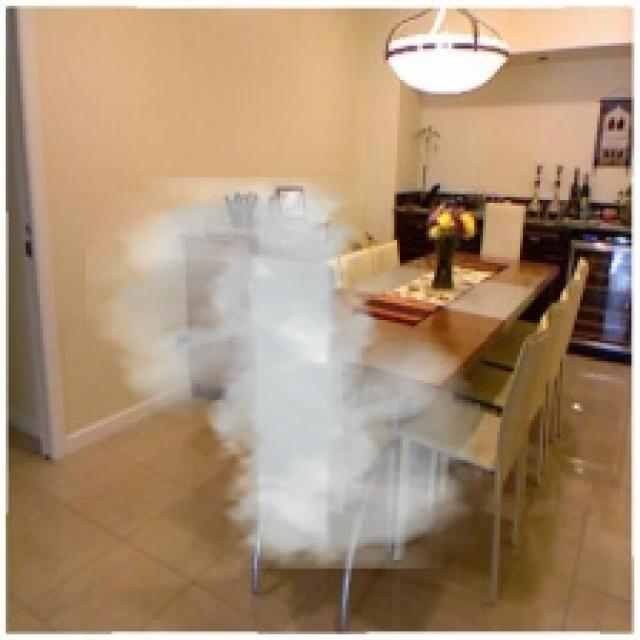smoke: (86, 177, 500, 569)
